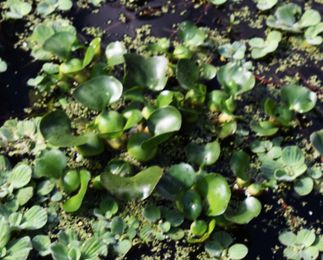water_hyacinth: (28, 22, 250, 243)
